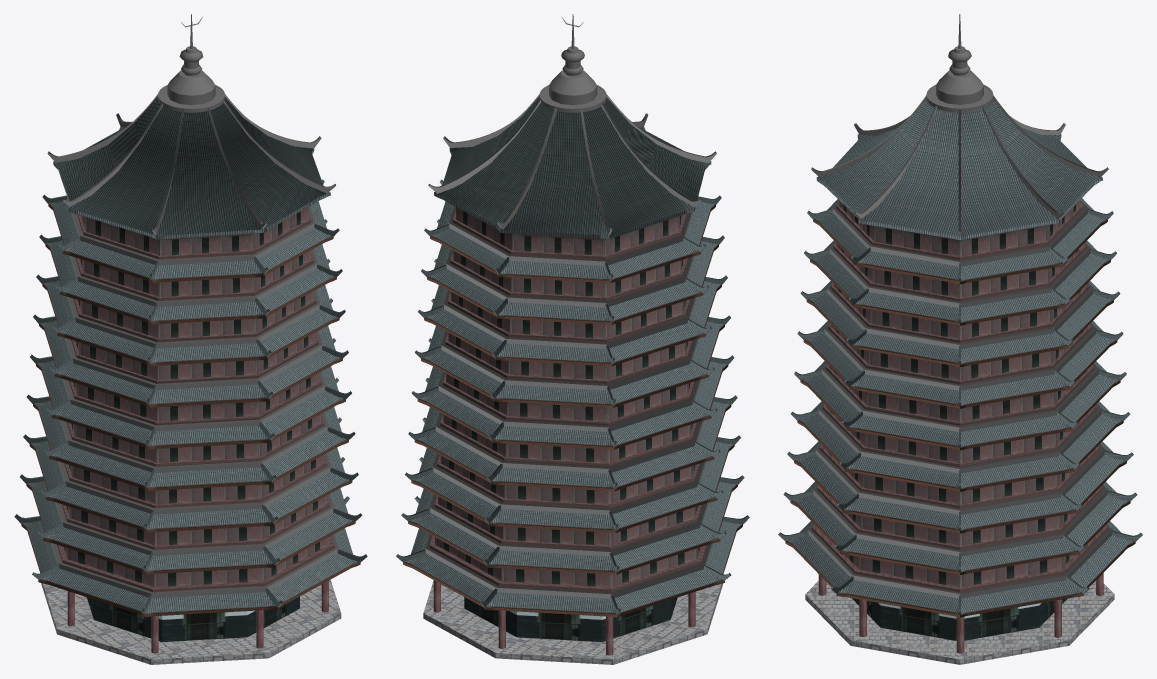
The picture shows the model from 3 angles, left to right: view 1: azimuth 30°, elevation 25°; view 2: azimuth 150°, elevation 25°; view 3: azimuth 270°, elevation 25°; orthographic projection.
Visible parts, largest first — view 1: NGon33; view 2: NGon33; view 3: NGon33.
Part boxes in pixels (x1=…): NGon33: x1=14, y1=14, x2=367, y2=664; NGon33: x1=396, y1=14, x2=749, y2=664; NGon33: x1=778, y1=14, x2=1142, y2=664.
Bounding box in the file's own units: 0.9667 × 1.71 × 0.9667.
Materials: 8 (8 with a texture image).
